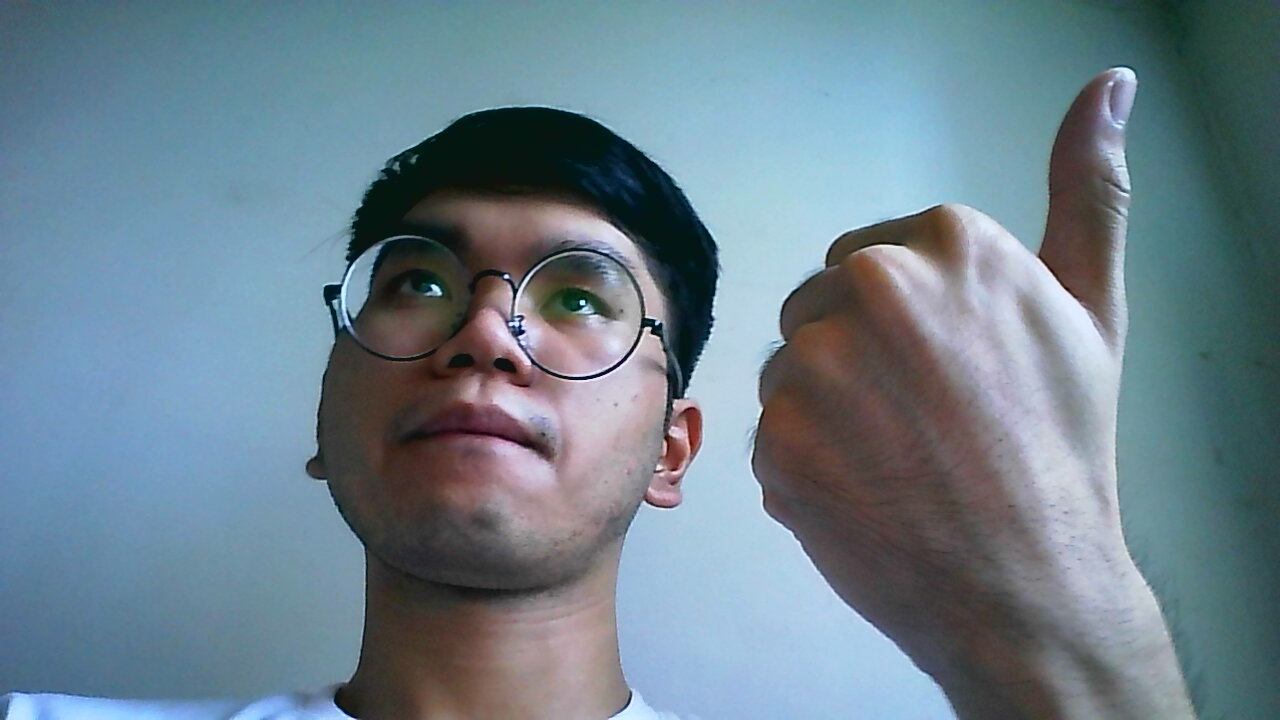thumbs: (747, 66, 1156, 617)
